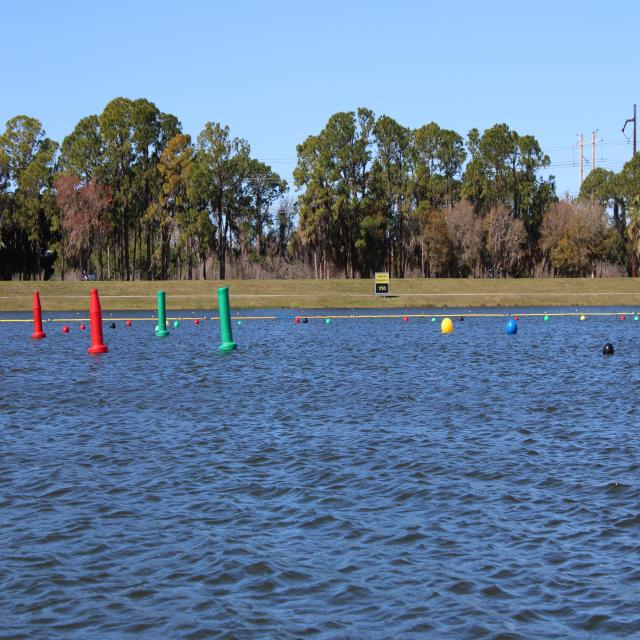black-buoy: (602, 344, 614, 356)
blue-buoy: (505, 319, 517, 336)
green-column-buoy: (217, 286, 235, 351), (155, 289, 168, 335)
red-buoy: (64, 324, 70, 332), (194, 318, 198, 324)
red-column-buoy: (90, 288, 108, 356), (32, 290, 46, 340)
yellow-buoy: (443, 317, 454, 334)
